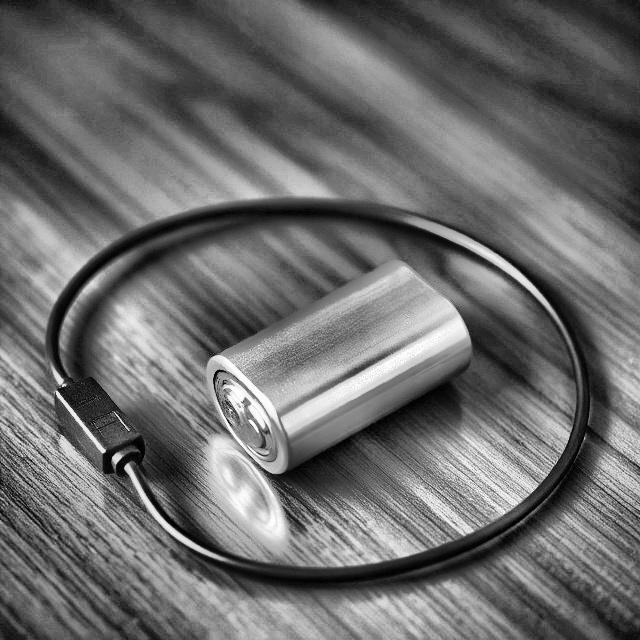Battery: (206, 260, 472, 475)
Cable: (43, 195, 595, 588)
